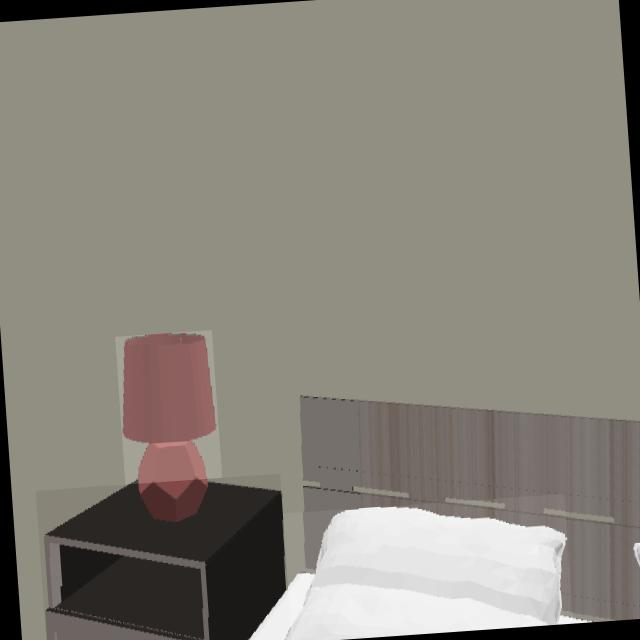lamp: (122, 334, 218, 522)
nighttable: (44, 484, 286, 640)
pillow: (284, 508, 566, 640)
